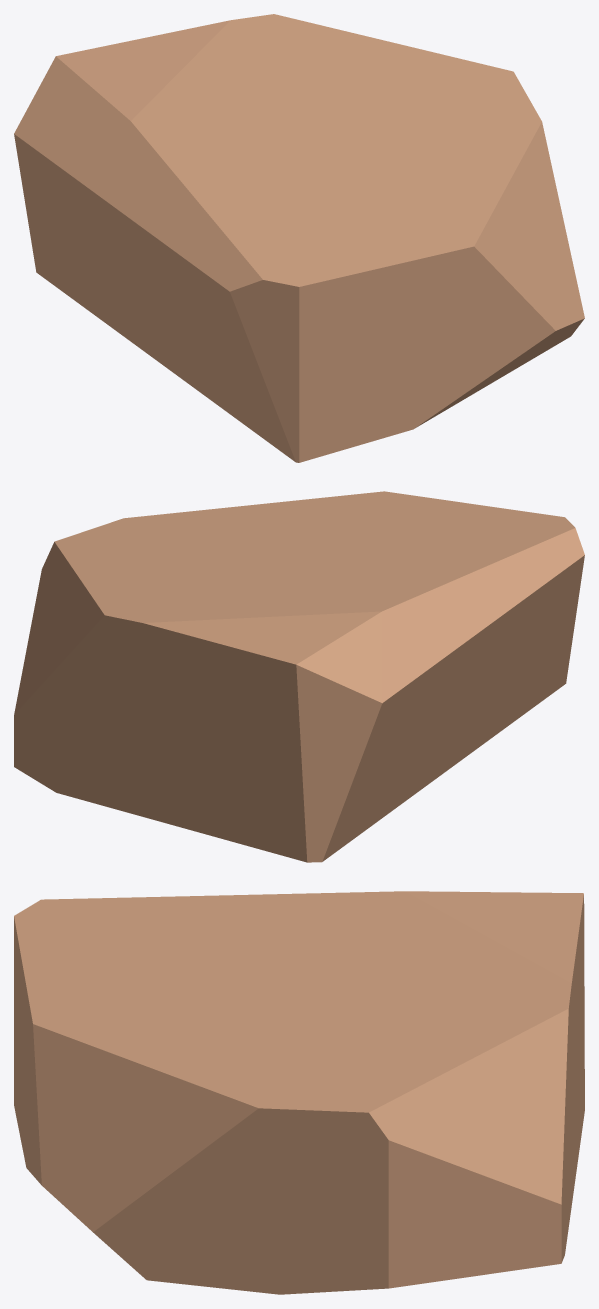
The model's file is Rock_Flat_m_03.fbx.
3 views of the same model, one above another, from view 1: azimuth 30°, elevation 25°; view 2: azimuth 150°, elevation 25°; view 3: azimuth 270°, elevation 25° (orthographic). The views are drawn at different scales.
Parts seen in each view (by area): view 1: Rock_Flat_m_03; view 2: Rock_Flat_m_03; view 3: Rock_Flat_m_03.
Boxes of the visible parts, box(x1,y1,x2,y2) form: Rock_Flat_m_03: box(14, 14, 584, 462); Rock_Flat_m_03: box(14, 491, 584, 862); Rock_Flat_m_03: box(14, 891, 584, 1294).
Bounding box in the file's own units: 79.33 × 36.71 × 85.06.
